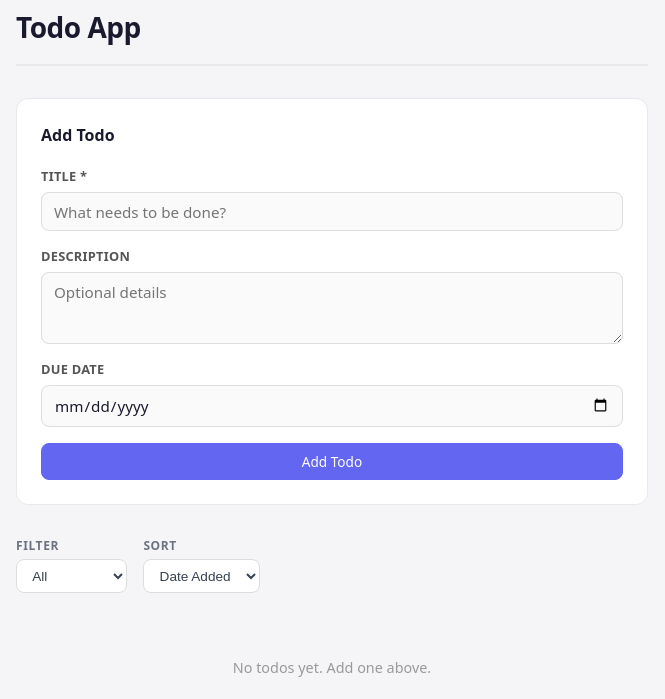
Test case: App › creates a todo and refreshes the list
Type "New task" into the field labelled "Title *" at [332, 212], box [41,192,623,231]
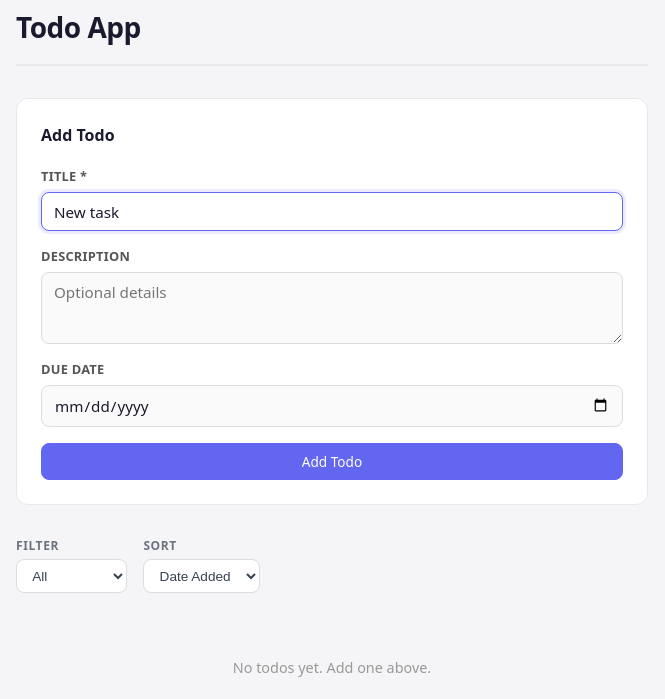
Click the button "Add Todo" at [332, 461], box [41,442,623,480]
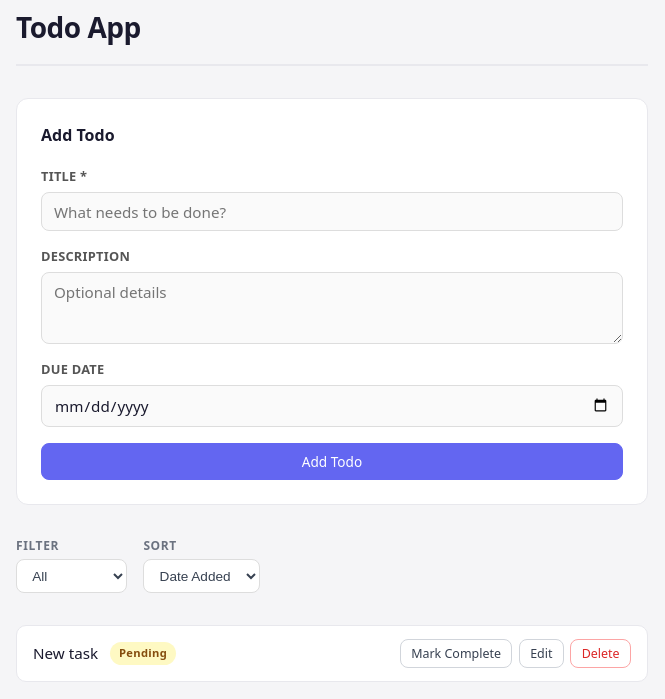
Check: the button "New task" is shown, box [33,642,98,665]
